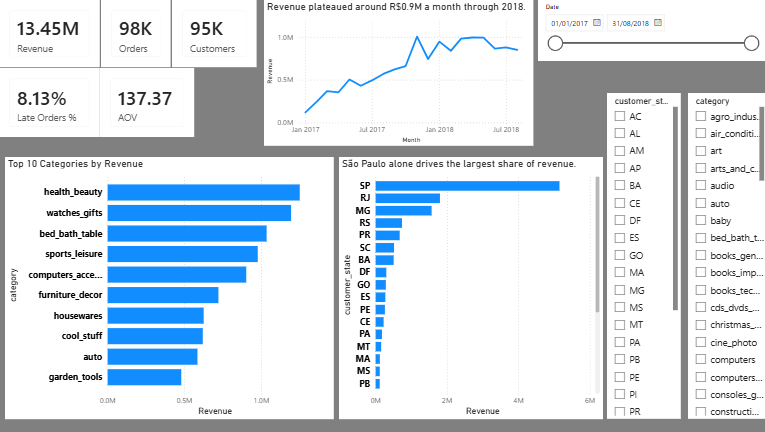

The dashboard page shown, as its layout file describes it:
{"tool":"powerbi","page":{"name":"Sales Overview","canvas":[1280,720],"ordinal":0},"visuals":[{"type":"cardVisual","fields":{"Data":["fact_orders.Revenue"]},"box":[0,0,168.2,111.8],"z":0},{"type":"cardVisual","fields":{"Data":["fact_orders.Orders"]},"box":[169.3,0,116.4,112.1],"z":1000},{"type":"cardVisual","fields":{"Data":["fact_orders.AOV"]},"box":[168.3,113.3,156.7,115],"z":2000},{"type":"cardVisual","fields":{"Data":["fact_orders.Late Orders %"]},"box":[0,113.3,168.3,115],"z":3000},{"type":"lineChart","title":"Revenue plateaued around R$0.9M a month through 2018.","fields":{"Category":["Calendar.Month"],"Y":["fact_orders.Revenue"]},"box":[441.7,0,449.2,243.3],"z":4000},{"type":"clusteredBarChart","title":"Top 10 Categories by Revenue","fields":{"Category":["fact_orders.category"],"Y":["fact_orders.Revenue"]},"box":[10,261.7,548.3,436.7],"z":5000},{"type":"clusteredBarChart","title":"São Paulo alone drives the largest share of revenue.","fields":{"Category":["fact_orders.customer_state"],"Y":["fact_orders.Revenue"]},"box":[566.7,261.7,440,436.7],"z":6000},{"type":"slicer","fields":{"Values":["Calendar.Date"]},"box":[897.5,0,376.7,100],"z":7000},{"type":"slicer","fields":{"Values":["fact_orders.customer_state"]},"box":[1013.3,155,123.3,543.3],"z":8000},{"type":"slicer","fields":{"Values":["fact_orders.category"]},"box":[1148.3,155,131.7,543.3],"z":9000},{"type":"cardVisual","fields":{"Data":["fact_orders.Customers"]},"box":[288.6,0,141.4,112.1],"z":10000}]}

Visuals, with their boxes in screenshot pixels (x1, y1, x2, y2), scaled from the page's 1280x720 canvas onto the 765x432 screenshot:
cardVisual - fact_orders.Revenue: BBox(0, 0, 101, 67)
cardVisual - fact_orders.Orders: BBox(101, 0, 171, 67)
cardVisual - fact_orders.AOV: BBox(101, 68, 194, 137)
cardVisual - fact_orders.Late Orders %: BBox(0, 68, 101, 137)
"Revenue plateaued around R$0.9M a month through 2018." lineChart: BBox(264, 0, 532, 146)
"Top 10 Categories by Revenue" clusteredBarChart: BBox(6, 157, 334, 419)
"São Paulo alone drives the largest share of revenue." clusteredBarChart: BBox(339, 157, 602, 419)
slicer - Calendar.Date: BBox(536, 0, 762, 60)
slicer - fact_orders.customer_state: BBox(606, 93, 679, 419)
slicer - fact_orders.category: BBox(686, 93, 764, 419)
cardVisual - fact_orders.Customers: BBox(172, 0, 257, 67)
